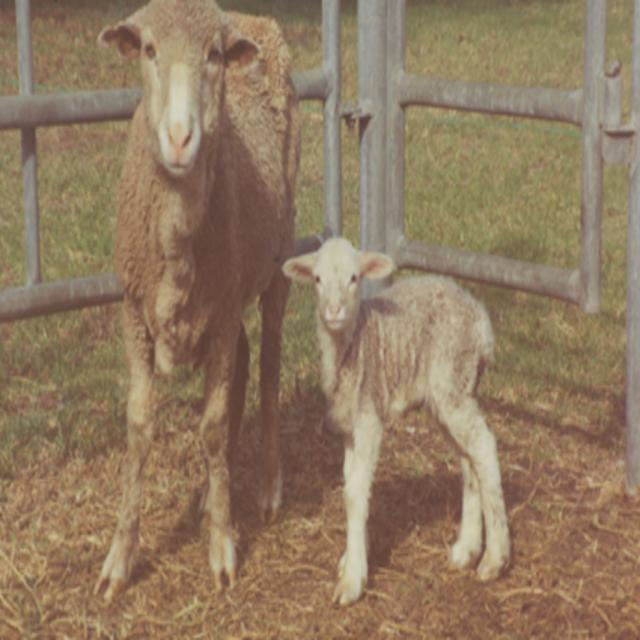Sheep: (90, 0, 299, 607), (282, 232, 515, 608)
